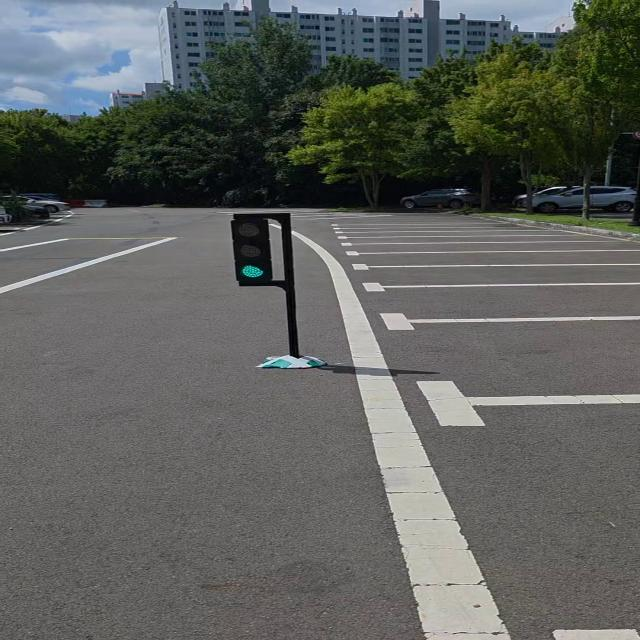green: (233, 212, 277, 286)
